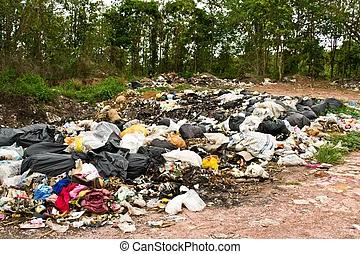garbage: (0, 74, 360, 230)
